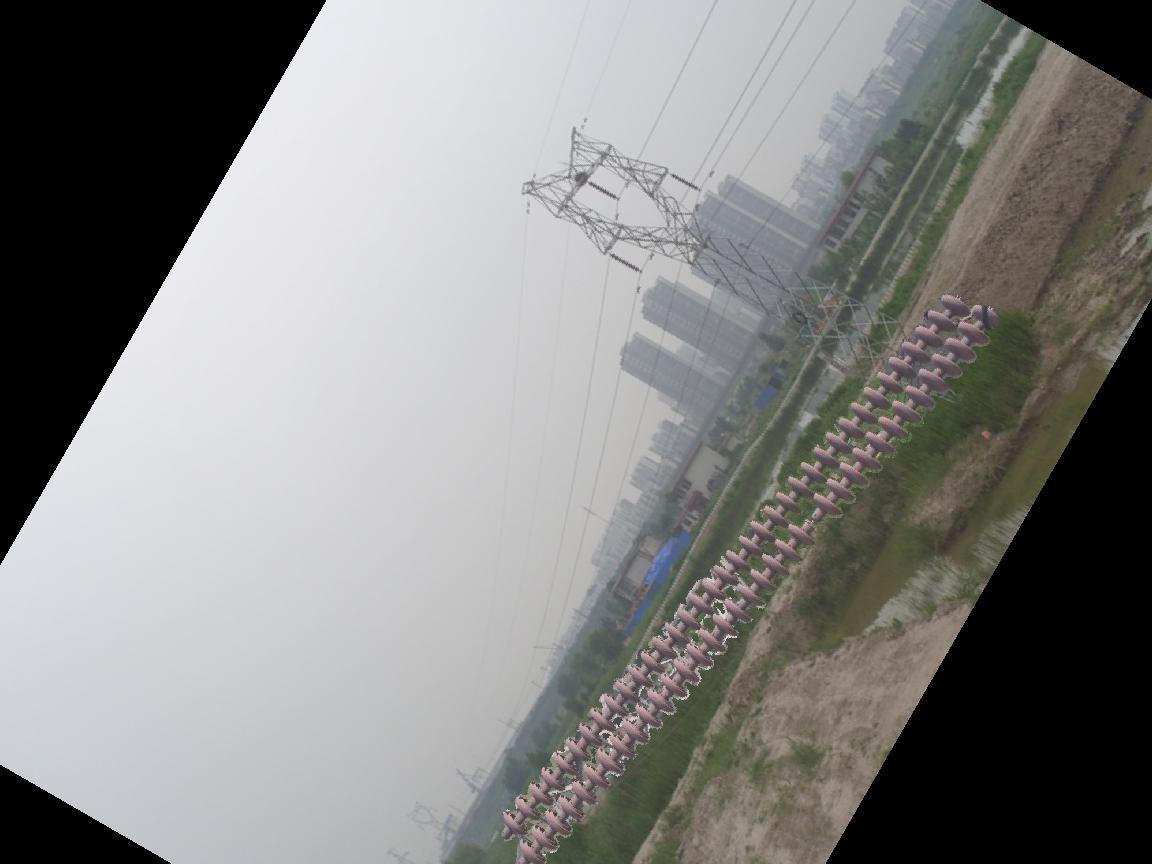insulator: (495, 291, 998, 864), (604, 249, 641, 274), (583, 177, 619, 201), (668, 171, 707, 192)
insulator_stringdrop: (784, 489, 845, 547)
